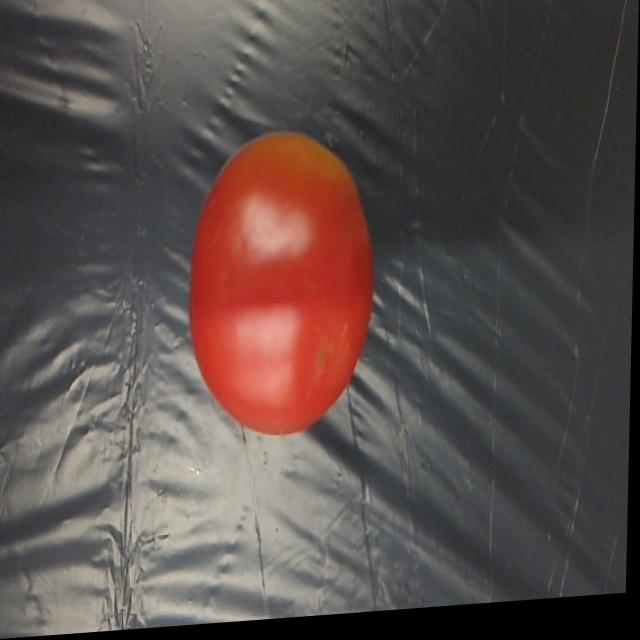kirmizi: (172, 116, 395, 468)
